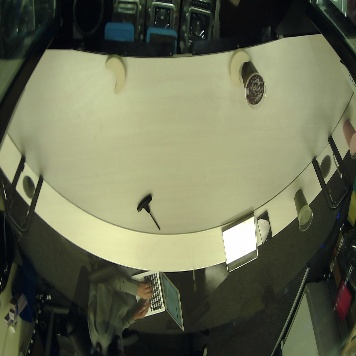full_cup: (241, 60, 268, 110), (294, 188, 314, 230), (342, 118, 356, 154)
puck: (104, 53, 126, 94), (228, 48, 251, 84)
